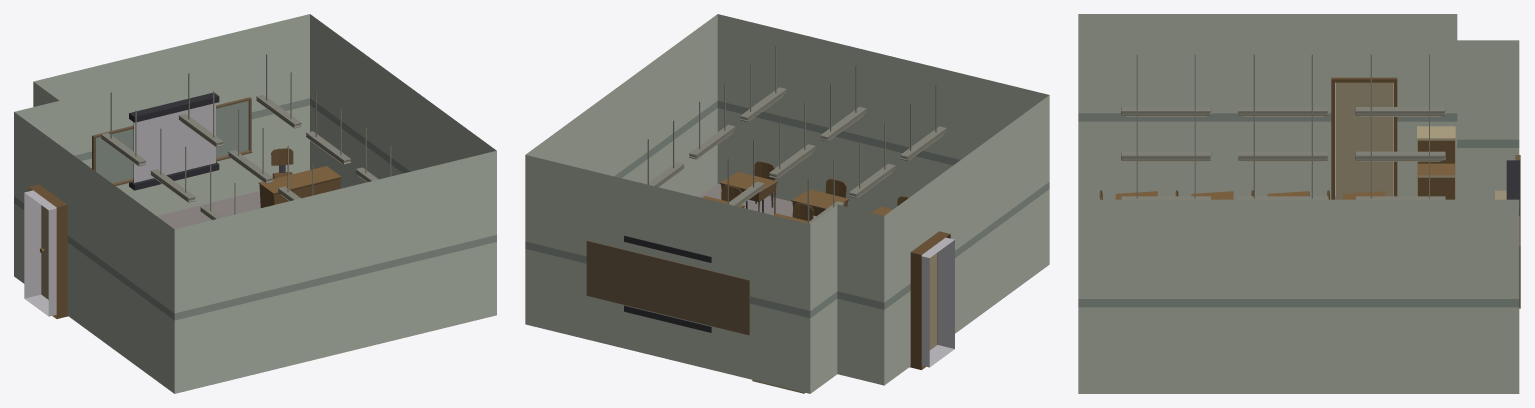
File: Classroom.fbx
3 views of the same model, side by side, from view 1: azimuth 30°, elevation 25°; view 2: azimuth 150°, elevation 25°; view 3: azimuth 270°, elevation 25° (orthographic). The views are drawn at different scales.
Visible parts, largest first — view 1: CLASSROOM, Cube, ClassroomLight2, Chalkboard1, TeacherDesk, ClassroomDoor, StudentDesk1.001; view 2: CLASSROOM, Chalkboard1, ClassroomLight2, StudentDesk1, Cube, ClassroomDoor; view 3: CLASSROOM, ClassroomLight2, ClassroomDoor, Bookshelf1, StudentDesk1, Cube.
Boxes of the visible parts, x1,y1,x2,y2 form: CLASSROOM: [14, 14, 496, 393]; Cube: [129, 93, 219, 190]; ClassroomLight2: [101, 54, 391, 219]; Chalkboard1: [92, 97, 252, 185]; TeacherDesk: [258, 166, 341, 207]; ClassroomDoor: [40, 205, 48, 299]; StudentDesk1.001: [271, 148, 293, 178]; CLASSROOM: [525, 14, 1049, 393]; Chalkboard1: [586, 240, 749, 335]; ClassroomLight2: [647, 46, 946, 224]; StudentDesk1: [702, 161, 908, 223]; Cube: [624, 235, 711, 332]; ClassroomDoor: [929, 253, 937, 349]; CLASSROOM: [1078, 14, 1519, 393]; ClassroomLight2: [1121, 54, 1445, 199]; ClassroomDoor: [1335, 82, 1392, 199]; Bookshelf1: [1417, 126, 1455, 199]; StudentDesk1: [1099, 190, 1385, 199]; Cube: [1506, 160, 1519, 215].
Bounding box in the file's own units: 713 × 349 × 682.
